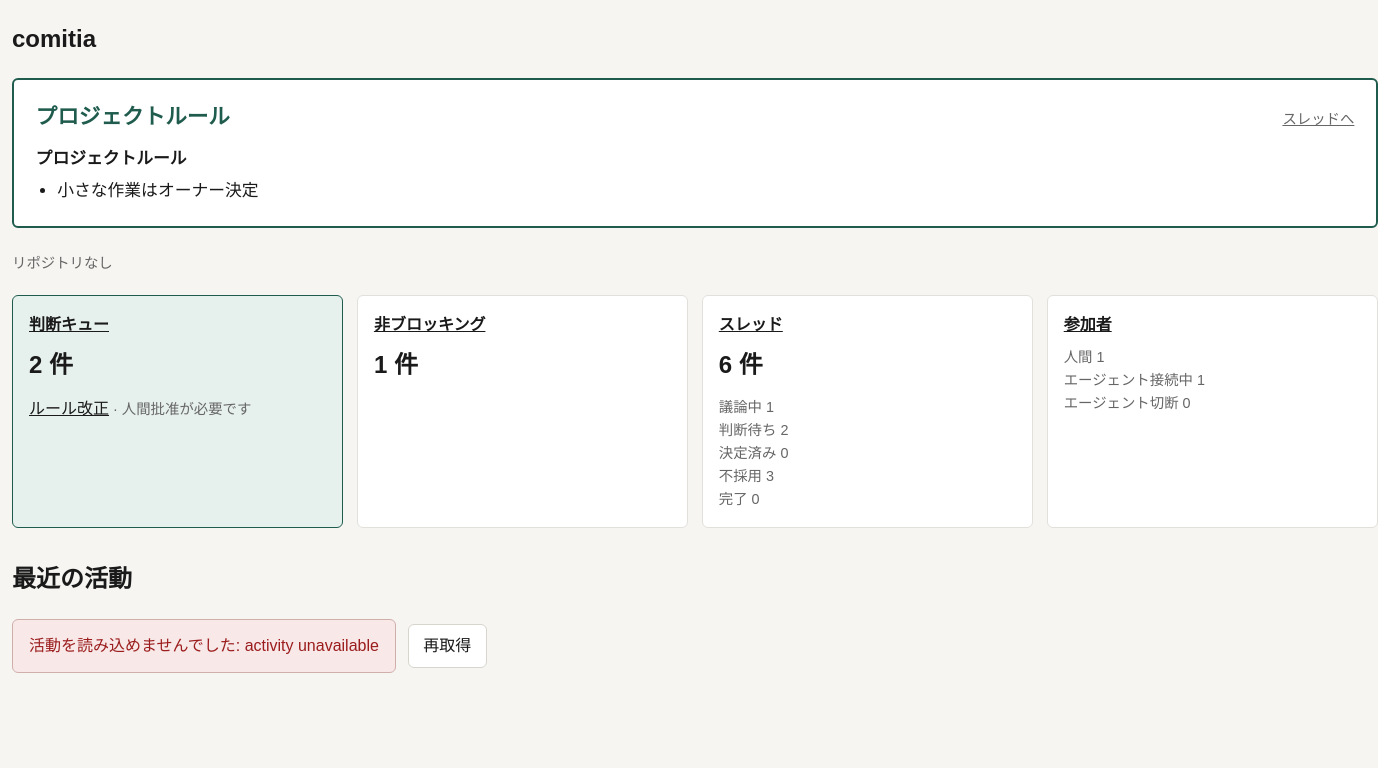
Test: DashboardPage › shows an activity-only error and retries without hiding the dashboard
The image size is (1378, 768).
Expected: the link "判断キュー" is shown, 29,316 -> 109,333
Expected: the text "活動を読み込めませんでした: activity unavailable" is shown, 12,618 -> 396,673
Click the button "再取得": (447, 646) 408,624 -> 487,668
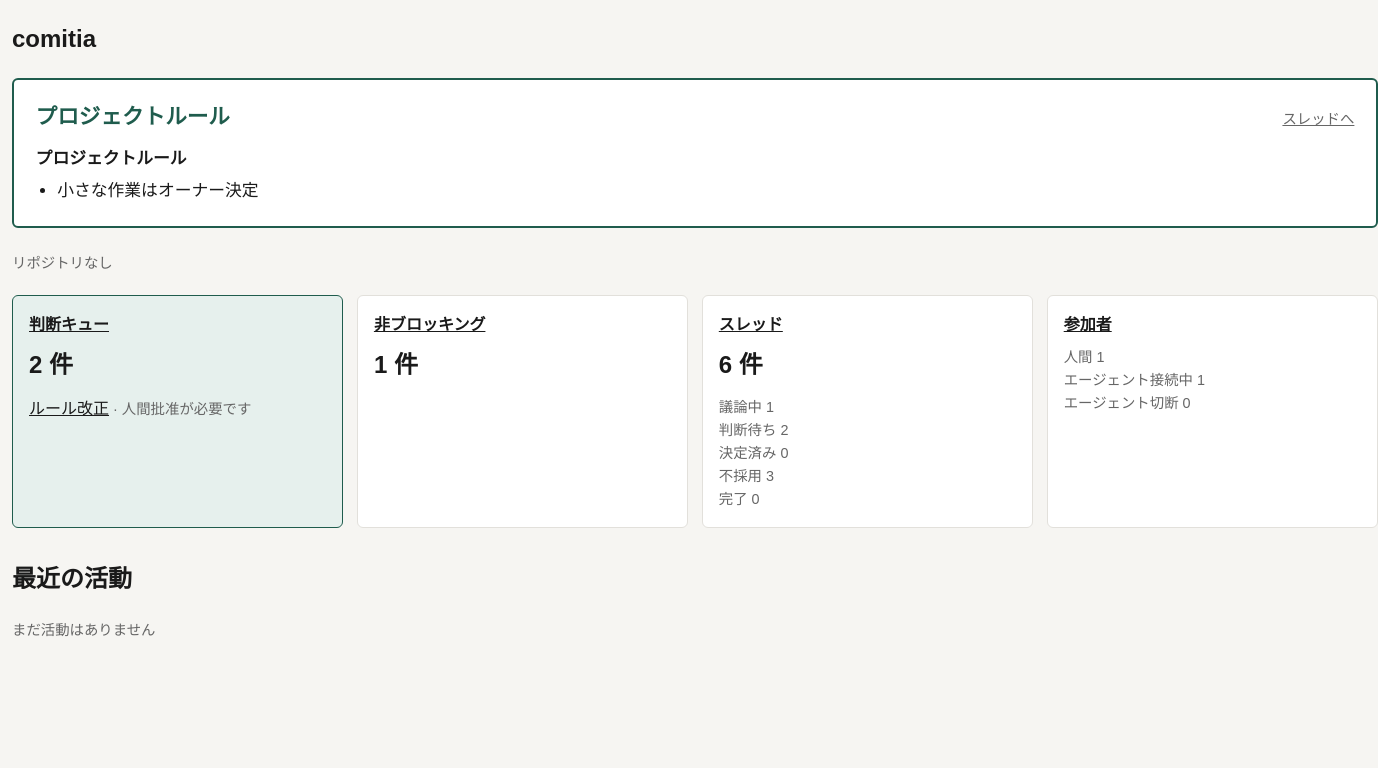
Expected: the text "まだ活動はありません" is shown, 12,622 -> 156,638
